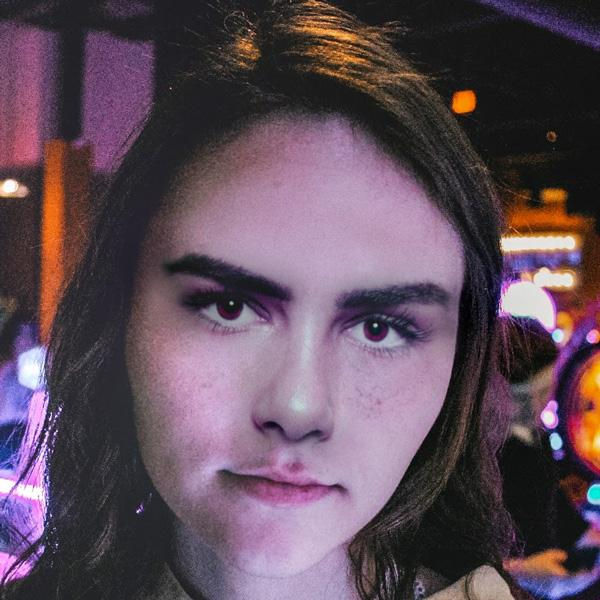Eyes: (169, 271, 284, 348), (328, 298, 428, 363)
